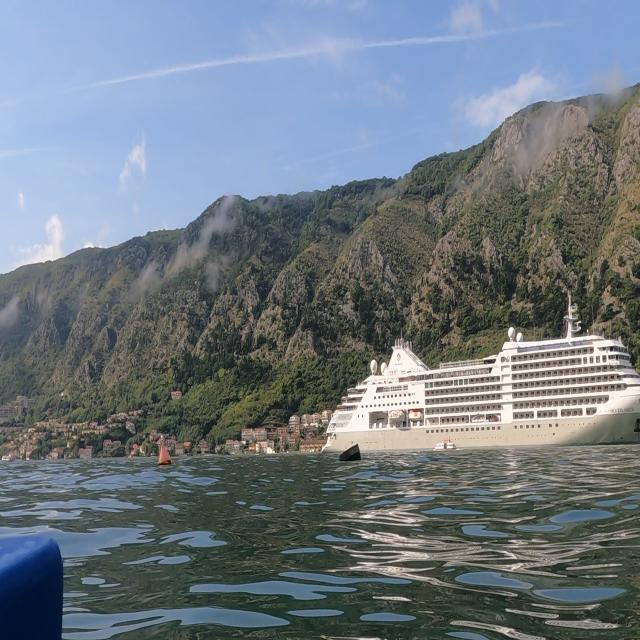boat: (319, 288, 638, 461)
buoy: (153, 428, 178, 481)
